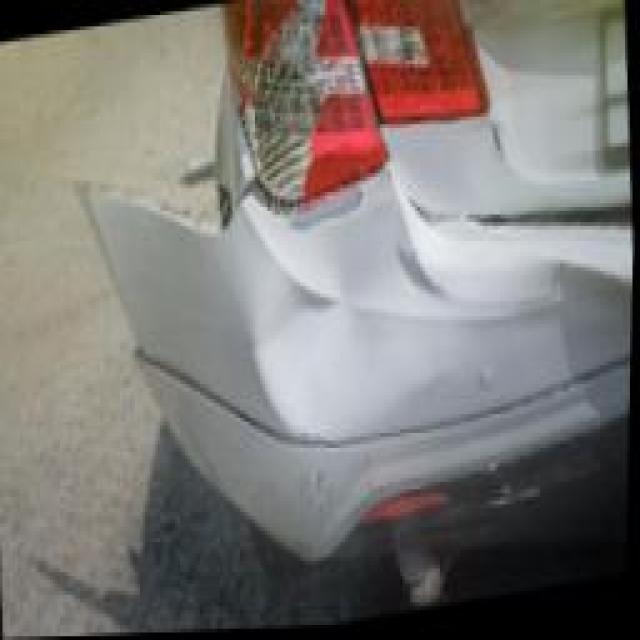Bumper: (72, 128, 636, 595)
Light: (242, 0, 371, 195)
